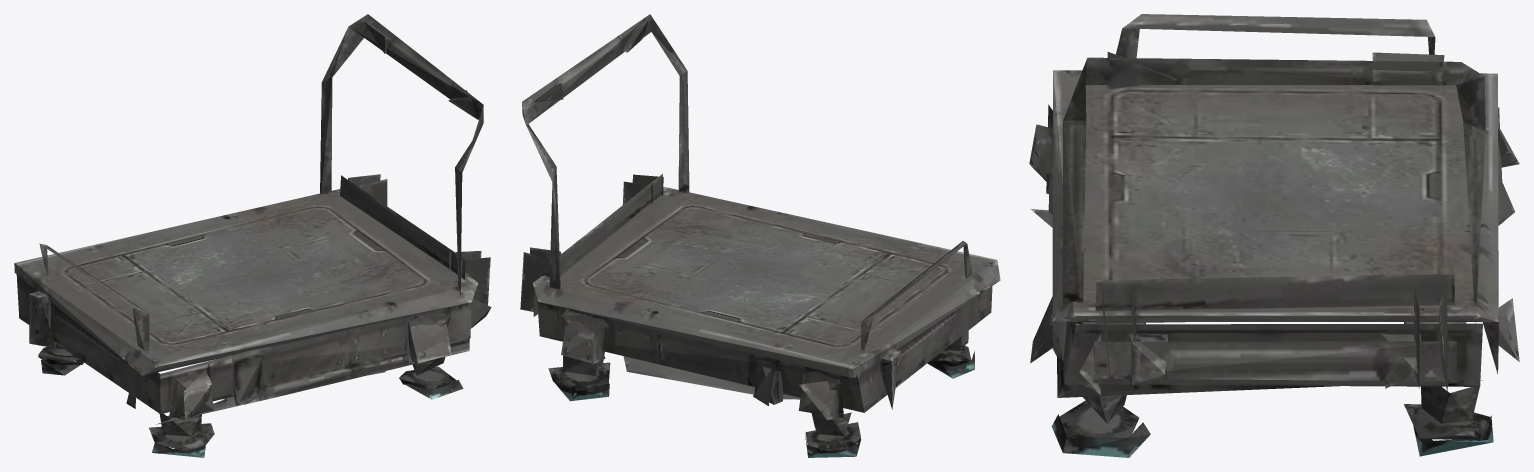
The model's file is prop.hover_cart.lod.glb.
The picture shows the model from 3 angles, left to right: view 1: azimuth 30°, elevation 25°; view 2: azimuth 150°, elevation 25°; view 3: azimuth 270°, elevation 25°; orthographic projection. The views are drawn at different scales.
Visible parts, largest first — view 1: body; view 2: body; view 3: body.
Part boxes in pixels (bbox=[...]): body: bbox=[14, 14, 491, 457]; body: bbox=[520, 14, 1000, 457]; body: bbox=[1029, 14, 1519, 457].
Size of the model in its own units: 1 by 0.7369 by 0.7688.
1 material, 1 textured.
